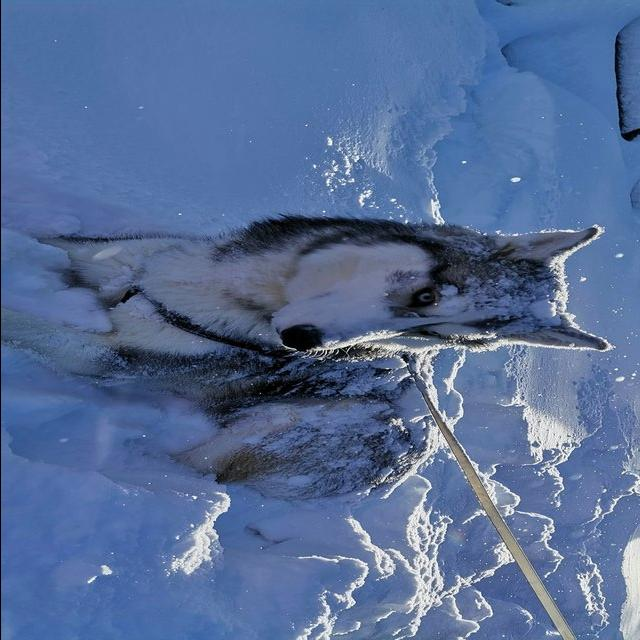husky: (2, 213, 616, 506)
